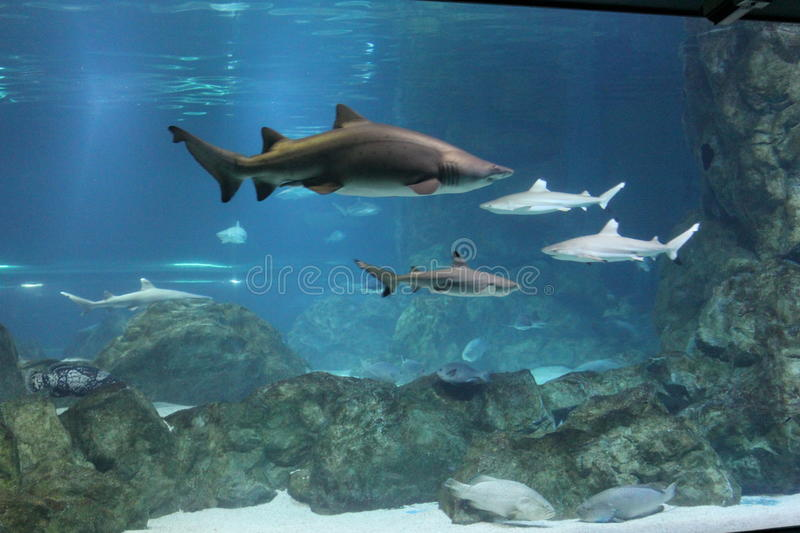shark: (165, 93, 524, 224), (342, 252, 539, 311), (537, 216, 721, 275), (59, 277, 225, 326), (471, 173, 637, 222)
